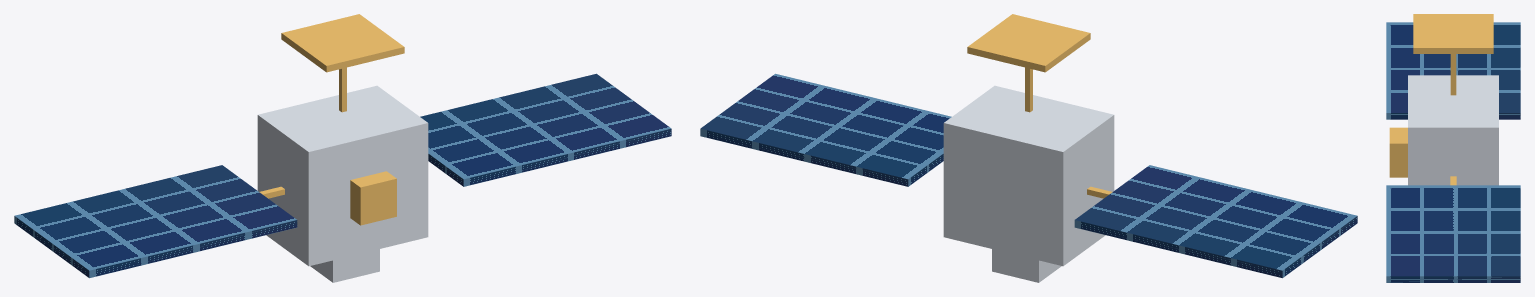
Rendered from satellite.glb.
3 renders of one model, left to right at view 1: azimuth 30°, elevation 25°; view 2: azimuth 150°, elevation 25°; view 3: azimuth 270°, elevation 25°, orthographic. The views are drawn at different scales.
Visible parts, largest first — view 1: Корпус, Левая панель, Правая панель, Приёмник, Датчик, Нижний модуль; view 2: Корпус, Левая панель, Правая панель, Приёмник, Нижний модуль; view 3: Правая панель, Корпус, Левая панель, Приёмник, Датчик, Стойка антенны.
Boxes of the visible parts, x1,y1,x2,y2 form: Корпус: (257,85,428,266); Левая панель: (14,165,297,278); Правая панель: (420,73,671,186); Приёмник: (281,14,404,72); Датчик: (350,171,396,225); Нижний модуль: (310,249,379,282); Корпус: (943,85,1114,266); Левая панель: (1074,165,1357,278); Правая панель: (700,73,951,186); Приёмник: (967,14,1090,72); Нижний модуль: (992,249,1061,282); Правая панель: (1386,185,1520,282); Корпус: (1408,75,1498,185); Левая панель: (1386,22,1520,119); Приёмник: (1413,14,1493,53); Датчик: (1389,127,1407,177); Стойка антенны: (1450,54,1456,95).
Bounding box in the file's own units: 5.6 × 2.09 × 1.25.
3 materials, 1 textured.
